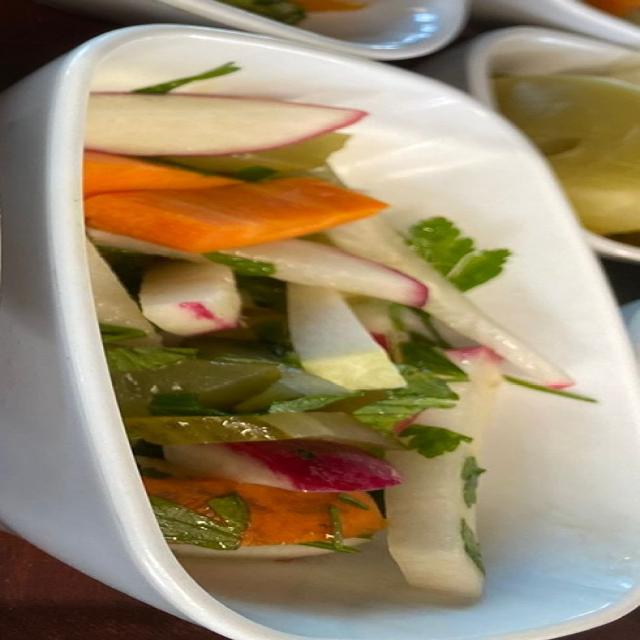yan_yemek: (53, 68, 566, 610)
